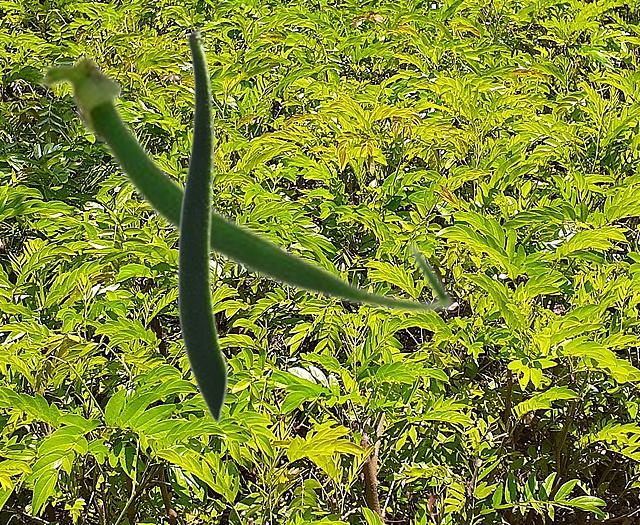french_bean: (35, 50, 455, 315), (176, 26, 228, 423)
